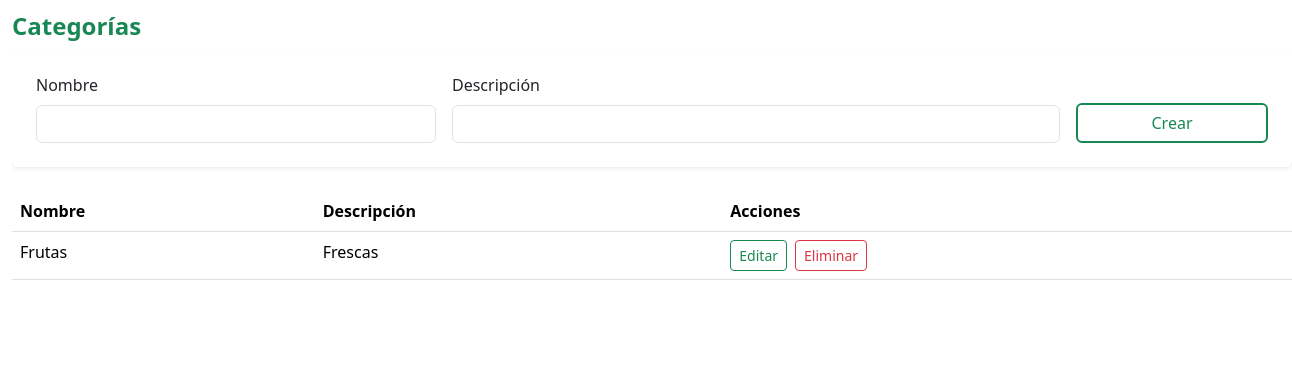
editar categoría usa el endpoint existente y refleja el cambio
Click the button with aria-label "Editar Frutas".
click(759, 255)  # box [730, 240, 787, 271]
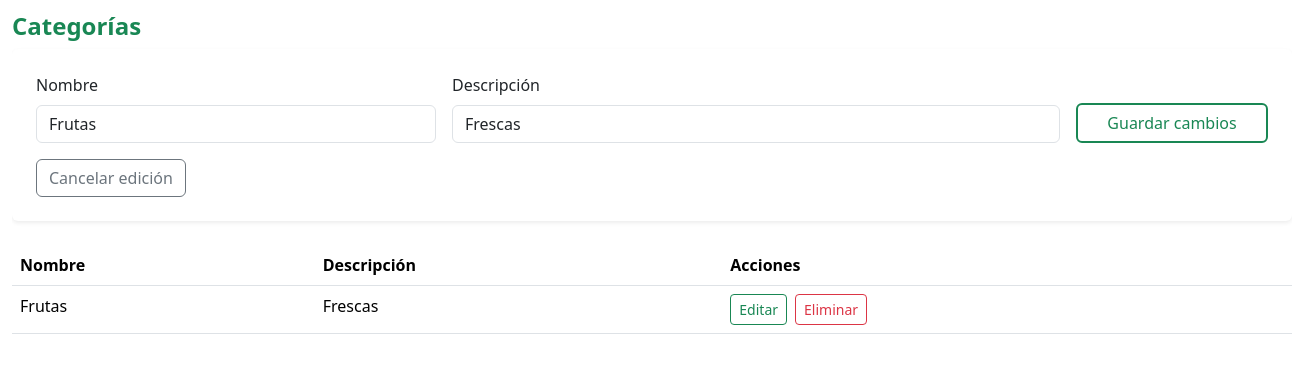
Replace the text in the field labelled "Nombre" with "Frutas frescas" at (236, 124), box [36, 105, 436, 143]
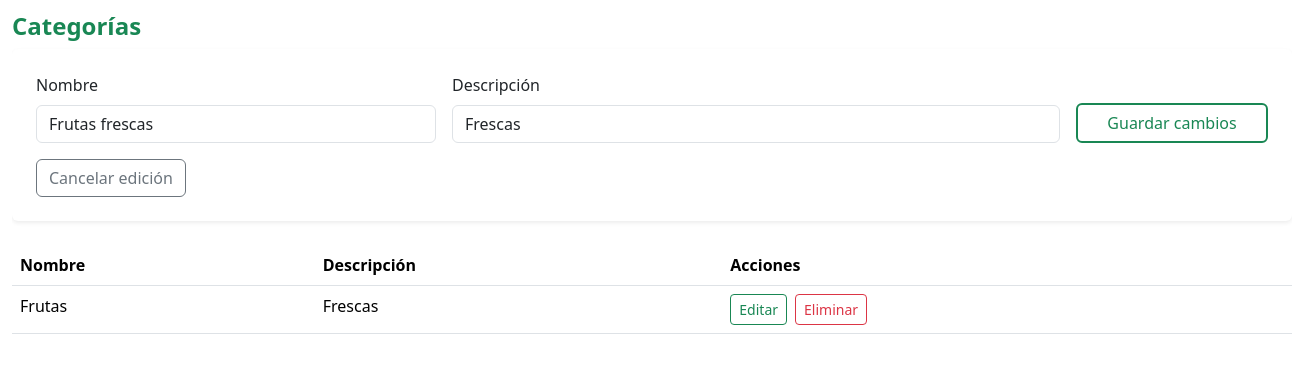
Click the button "Guardar cambios".
click(1172, 123)  # box [1076, 103, 1268, 143]
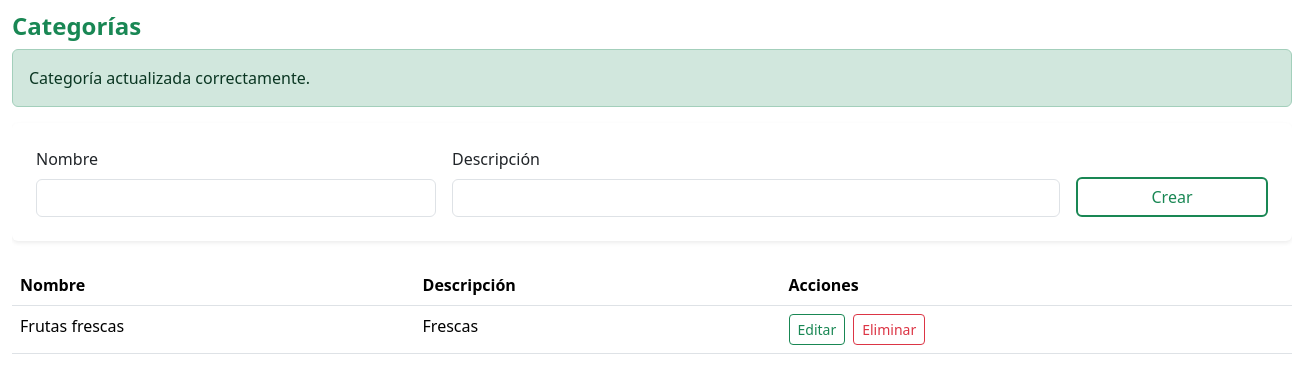
Check: the text "Frutas frescas" is shown, box [12, 305, 414, 353]
